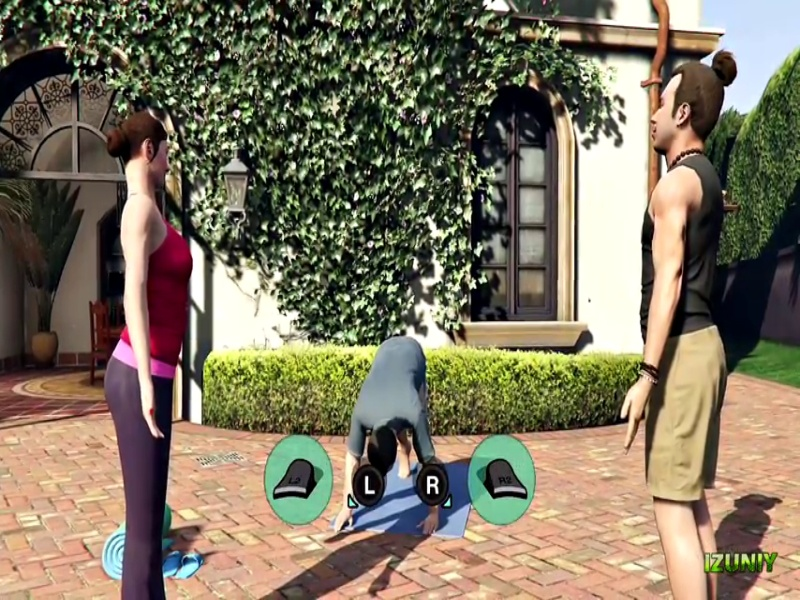human: (98, 116, 195, 600)
